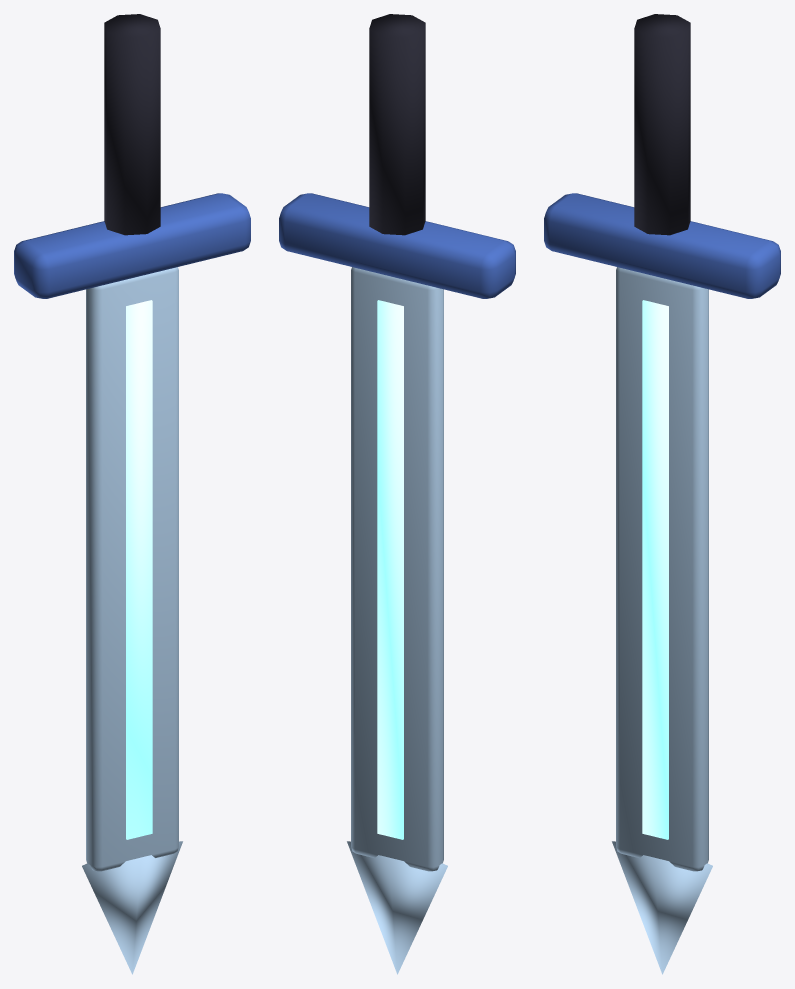
Rendered from weapon_assassino_rara.glb.
3 views of the same model, side by side, from view 1: azimuth 30°, elevation 25°; view 2: azimuth 150°, elevation 25°; view 3: azimuth 330°, elevation 25° (orthographic).
Parts seen in each view (by area): view 1: weapon_assassino_rara; view 2: weapon_assassino_rara; view 3: weapon_assassino_rara.
Part boxes in pixels (x1,y1,x2,y2): weapon_assassino_rara: [14, 14, 250, 974]; weapon_assassino_rara: [279, 14, 515, 974]; weapon_assassino_rara: [544, 14, 780, 974].
Size of the model in its own units: 0.3 by 1.25 by 0.07.
